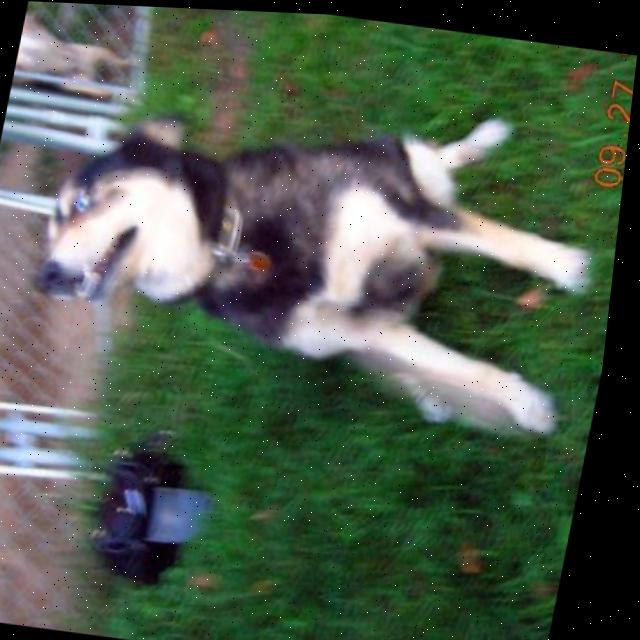dogs: (0, 51, 636, 465)
